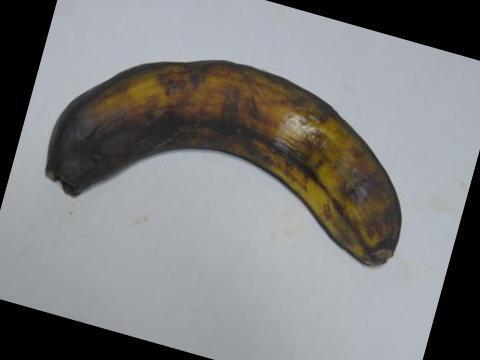overripe: (39, 51, 429, 302)
